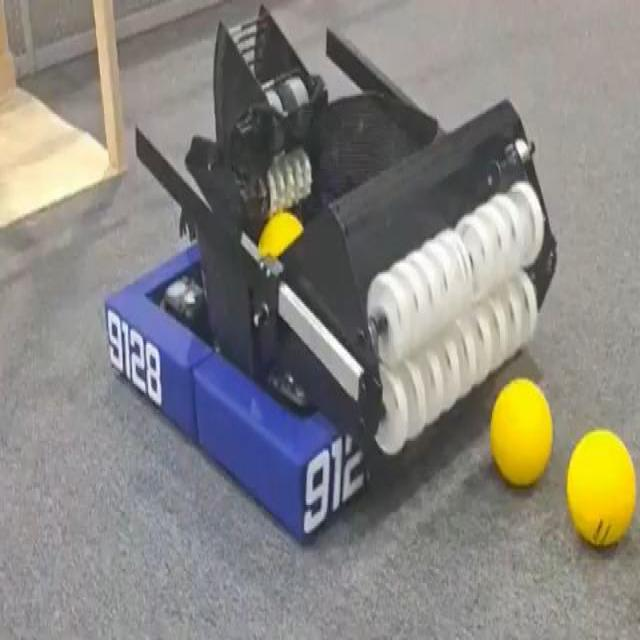Fuel: (565, 429, 636, 547), (566, 430, 635, 546), (489, 379, 552, 487), (490, 379, 552, 485), (258, 212, 302, 258)
